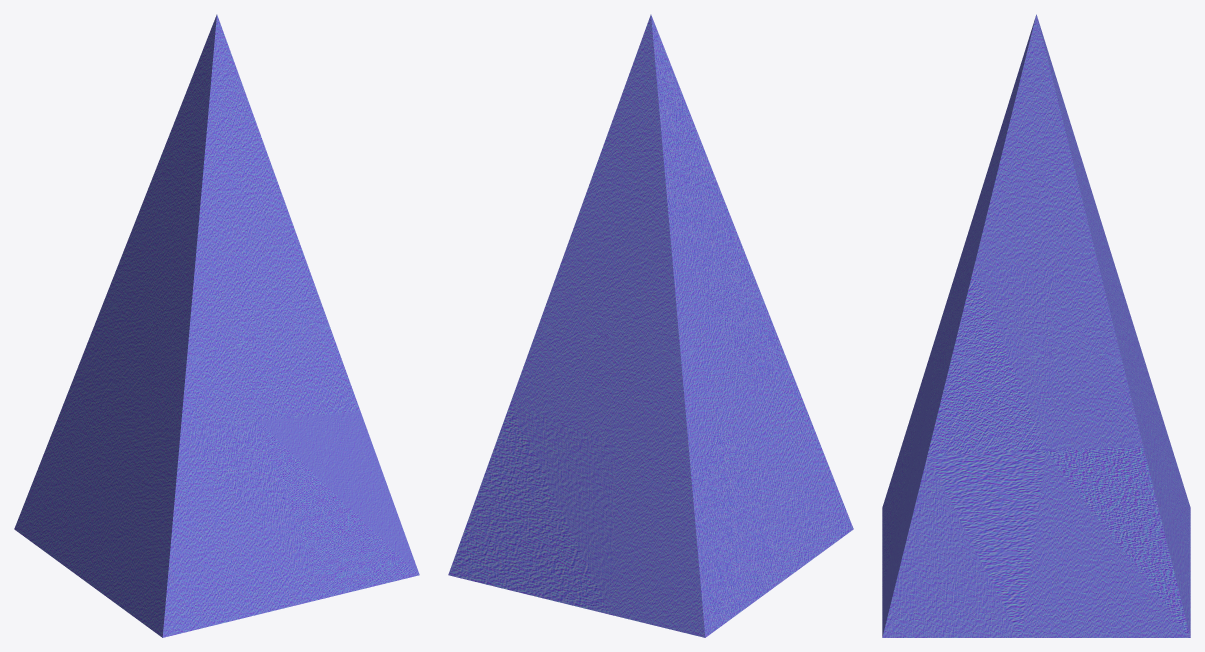
Rendered from CrashedCrystal.fbx.
3 views of the same model, side by side, from view 1: azimuth 30°, elevation 25°; view 2: azimuth 150°, elevation 25°; view 3: azimuth 270°, elevation 25° (orthographic). The views are drawn at different scales.
Parts seen in each view (by area): view 1: Piece_04, Piece_08, Piece_09, Piece_02, Piece_07, Piece_03, Piece_11, Piece_01; view 2: Piece_11, Pyramid001, Piece_03, Piece_06, Piece_02, Piece_07, Piece_01, Piece_04; view 3: Pyramid001, Piece_09, Piece_05, Piece_06, Piece_02, Piece_01, Piece_08, Piece_04, Piece_11, Piece_03.
Boxes of the visible parts, x1,y1,x2,y2 form: Piece_04: (143, 241, 360, 427); Piece_08: (162, 420, 323, 637); Piece_09: (258, 411, 419, 598); Piece_02: (145, 105, 298, 311); Piece_07: (98, 409, 180, 637); Piece_03: (66, 196, 176, 416); Piece_11: (14, 396, 114, 590); Piece_01: (181, 14, 277, 181); Piece_11: (610, 426, 789, 637); Pyramid001: (448, 403, 616, 614); Piece_03: (616, 234, 753, 476); Piece_06: (510, 234, 669, 445); Piece_02: (569, 124, 747, 259); Piece_07: (731, 356, 853, 575); Piece_01: (603, 14, 701, 145); Piece_04: (722, 251, 785, 395); Pyramid001: (1020, 408, 1190, 637); Piece_09: (882, 395, 1045, 637); Piece_05: (927, 267, 1057, 455); Piece_06: (1045, 189, 1147, 450); Piece_02: (963, 103, 1098, 266); Piece_01: (990, 14, 1072, 200); Piece_08: (882, 342, 934, 588); Piece_04: (927, 250, 973, 454); Piece_11: (1147, 380, 1190, 554); Piece_03: (1091, 190, 1150, 406).
Size of the model in its own units: 100 by 200 by 100.
